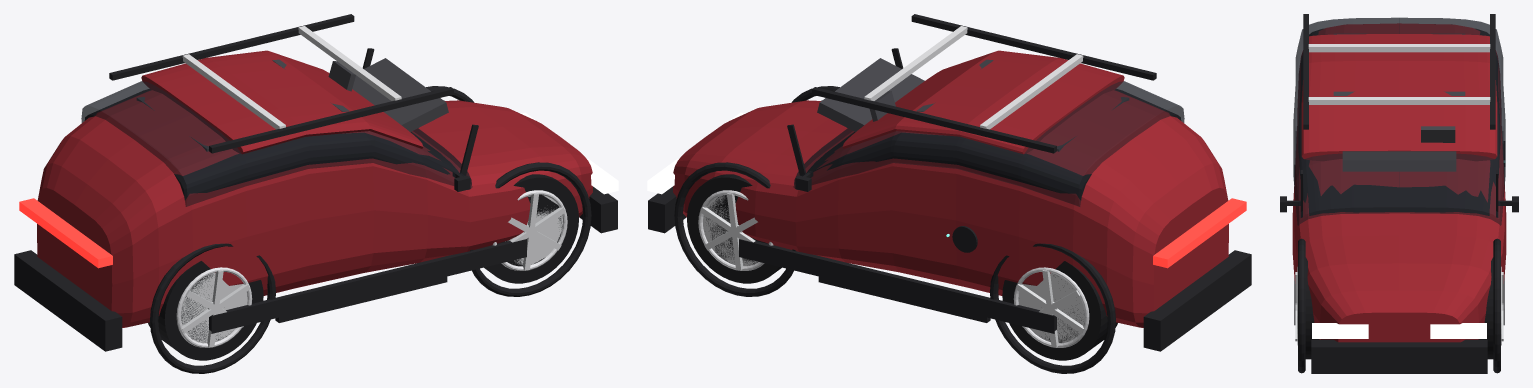
Rendered from car_suv.glb.
3 renders of one model, left to right at view 1: azimuth 30°, elevation 25°; view 2: azimuth 150°, elevation 25°; view 3: azimuth 270°, elevation 25°, orthographic. The views are drawn at different scales.
Visible parts, largest first — view 1: CarBody, Glass, RoofCap, CabinSUV, CladR, BumperR, Tire_3, Tire_1, DashSUV, Arch-1.5_-1, Arch1.5_-1, RoofRail-1 (+12 smaller); view 2: CarBody, Glass, RoofCap, CabinSUV, CladL, BumperR, Tire_0, Tire_2, DashSUV, Arch-1.5_1, Arch1.5_1, RoofRail1 (+12 smaller); view 3: CarBody, RoofCap, Glass, CabinSUV, BumperF, DashSUV, RackCross1, RackCross2, Arch1.5_1, Arch1.5_-1, HeadL, HeadR (+5 smaller).
Part boxes in pixels (<box>): CarBody: <box>37,90,592,327</box>; Glass: <box>81,81,472,206</box>; RoofCap: <box>141,50,423,154</box>; CabinSUV: <box>84,89,459,200</box>; CladR: <box>209,239,526,333</box>; BumperR: <box>14,250,122,351</box>; Tire_3: <box>148,261,263,360</box>; Tire_1: <box>484,174,578,283</box>; DashSUV: <box>352,58,448,131</box>; Arch-1.5_-1: <box>150,243,275,373</box>; Arch1.5_-1: <box>470,162,591,296</box>; RoofRail-1: <box>209,87,453,153</box>; CarBody: <box>673,90,1228,327</box>; Glass: <box>793,81,1184,206</box>; RoofCap: <box>842,50,1124,154</box>; CabinSUV: <box>806,89,1181,200</box>; CladL: <box>739,239,1056,333</box>; BumperR: <box>1143,250,1251,351</box>; Tire_0: <box>687,174,781,283</box>; Tire_2: <box>1002,261,1117,360</box>; DashSUV: <box>817,58,924,131</box>; Arch-1.5_1: <box>990,243,1115,373</box>; Arch1.5_1: <box>674,162,795,296</box>; RoofRail1: <box>812,87,1056,153</box>; CarBody: <box>1292,23,1506,342</box>; RoofCap: <box>1301,34,1497,161</box>; Glass: <box>1293,17,1505,225</box>; CabinSUV: <box>1298,28,1500,215</box>; BumperF: <box>1311,339,1487,373</box>; DashSUV: <box>1342,151,1456,171</box>; RackCross1: <box>1308,44,1490,52</box>; RackCross2: <box>1308,97,1490,104</box>; Arch1.5_1: <box>1493,238,1500,373</box>; Arch1.5_-1: <box>1298,238,1305,373</box>; HeadL: <box>1430,323,1486,338</box>; HeadR: <box>1312,323,1368,338</box>.
Size of the model in its own units: 4.88 by 2.05 by 2.1.
